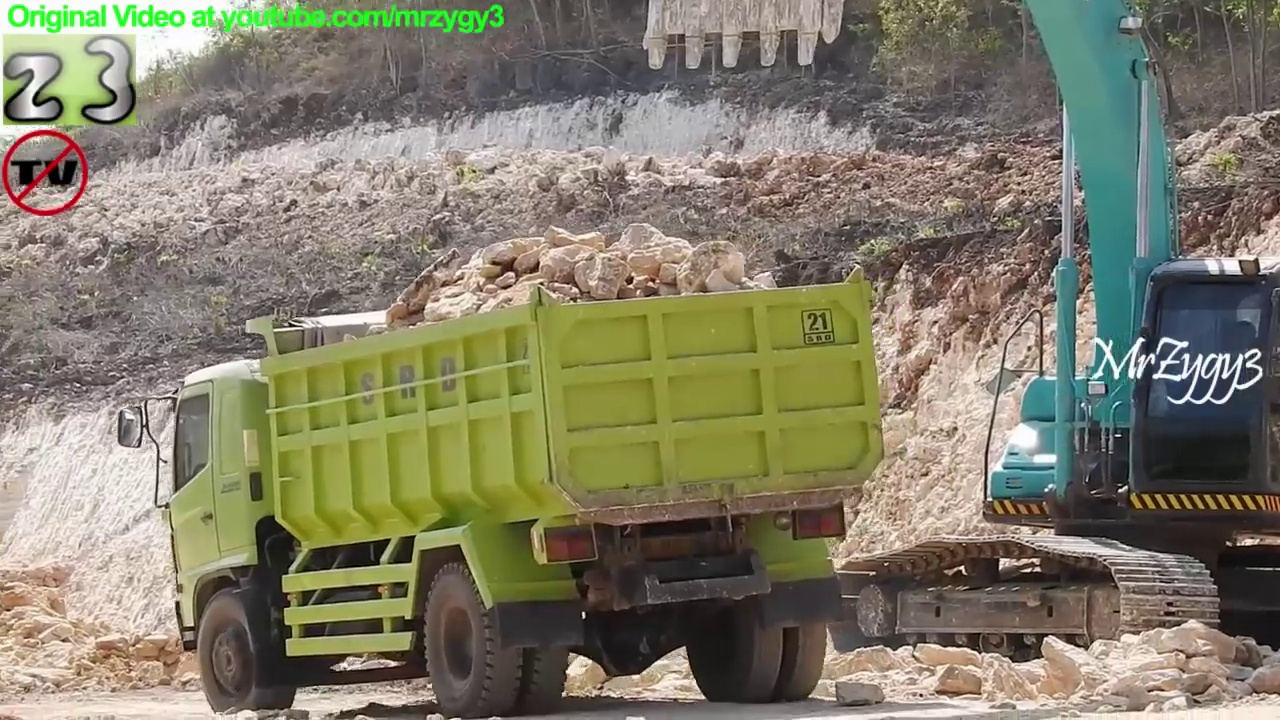excavator: (634, 1, 1280, 690)
truck: (112, 257, 894, 720)
